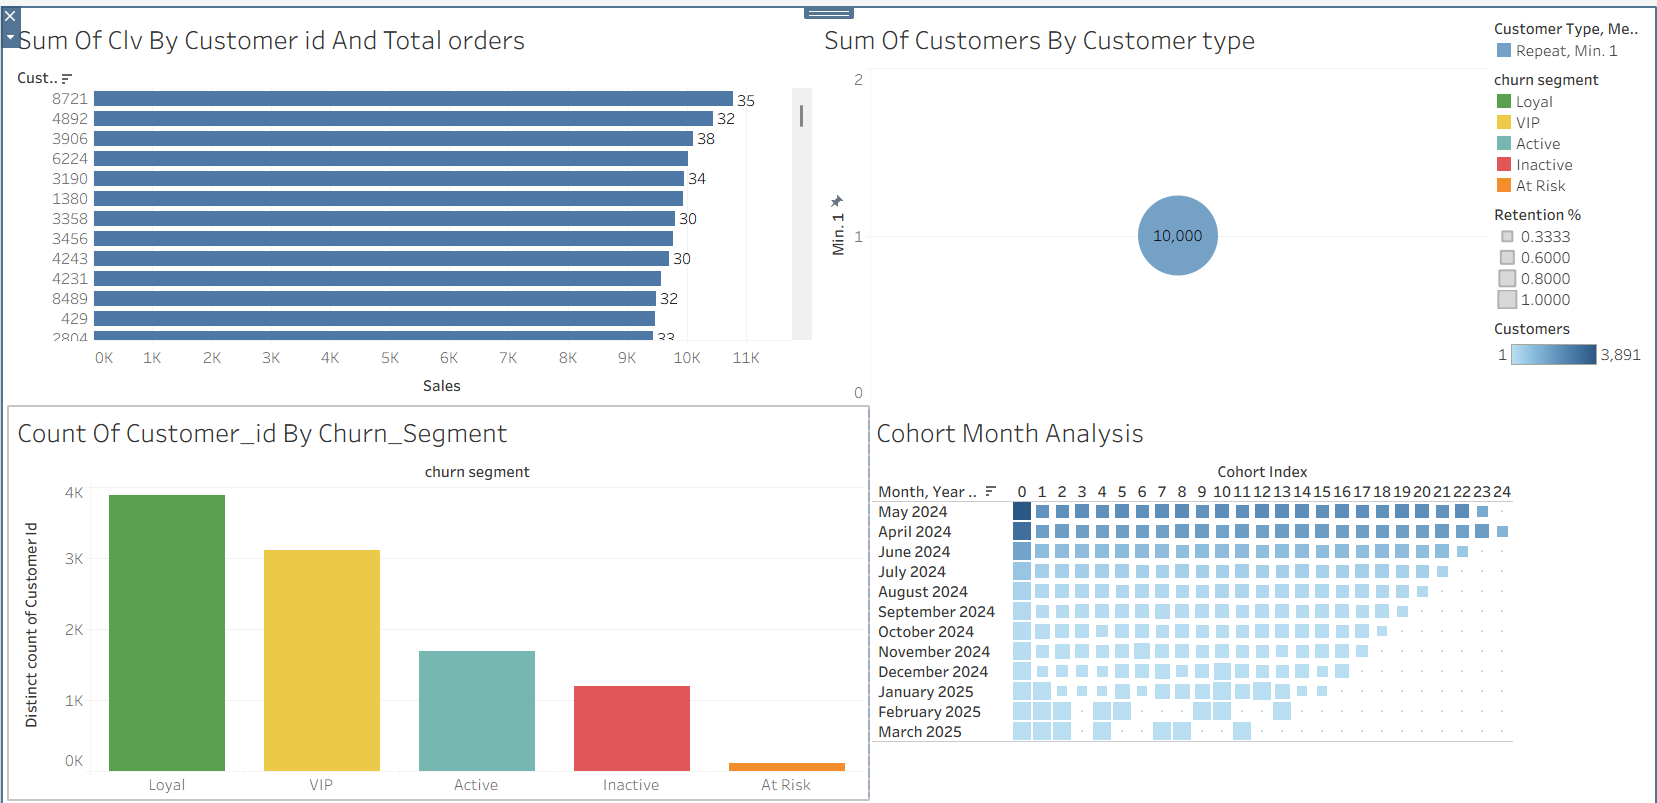

The dashboard page shown, as its layout file describes it:
{"tool":"tableau","page":{"name":"CUSTOMER ANALYTICS","canvas":[1000,1000],"units":"permille","ordinal":0},"visuals":[{"type":"worksheet","title":"Sheet 10","mark":"Automatic","rows":["customer_id"],"cols":["sales"],"box":[4.8,10,487,490]},{"type":"worksheet","title":"Sheet 11","mark":"Pie","rows":["Calculation_1330472606322733"],"box":[491.9,10,406.8,490]},{"type":"legend","title":"Sheet 11","param":"[federated.001l12v15upgfi11wvbyq09ii42s].[none:Calculation_1330472603095080:nk]\n","box":[898.6,10,96.6,63.7]},{"type":"legend","title":"Sheet 12","param":"[federated.001l12v15upgfi11wvbyq09ii42s].[none:Calculation_1330472635920436:nk]","box":[898.6,73.7,96.6,168.5]},{"type":"legend","title":"Sheet 20","param":"[federated.001l12v15upgfi11wvbyq09ii42s].[usr:Calculation_0591328376553498:qk]","box":[898.6,242.2,96.6,142.3]},{"type":"legend","title":"Sheet 20","param":"[federated.001l12v15upgfi11wvbyq09ii42s].[usr:Calculation_0591328376234009:qk]","box":[898.6,384.5,96.6,91.1]},{"type":"worksheet","title":"Sheet 12","mark":"Automatic","rows":["customer_id"],"cols":["Calculation_1330472635920436"],"box":[4.8,500,518.4,490]},{"type":"worksheet","title":"Sheet 20","mark":"Automatic","rows":["Calculation_0591328375410710"],"cols":["Calculation_0591328375955480"],"box":[523.2,500,471.9,490]}]}

Visuals, with their boxes on the dashboard's canvas, which has no fixed pixel size, in thousandths of its width and height (x1, y1, x2, y2). These are canvas units, not pixel positions in the 1657x803 screenshot, which may show the page scaled, cropped or inside an application window:
"Sheet 10" worksheet: 5 10 492 500
"Sheet 11" worksheet (Pie marks): 492 10 899 500
"Sheet 11" legend: 899 10 995 74
"Sheet 12" legend: 899 74 995 242
"Sheet 20" legend: 899 242 995 384
"Sheet 20" legend: 899 384 995 476
"Sheet 12" worksheet: 5 500 523 990
"Sheet 20" worksheet: 523 500 995 990
